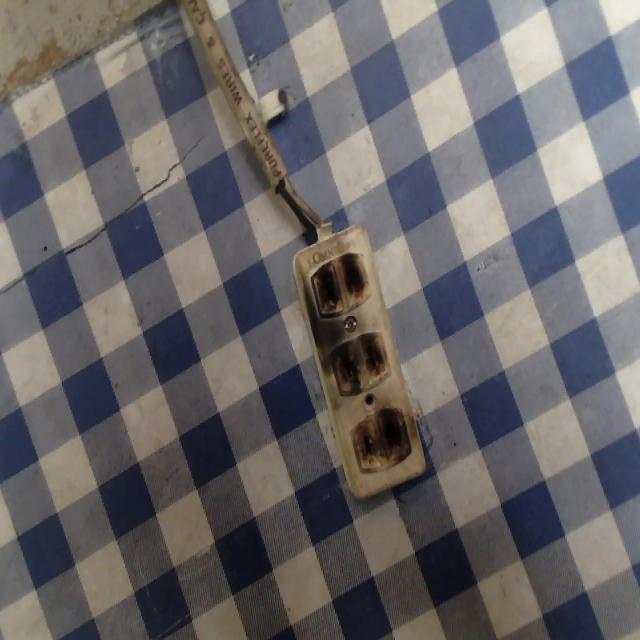-: (328, 324, 392, 396), (349, 402, 411, 474), (309, 247, 367, 316)
